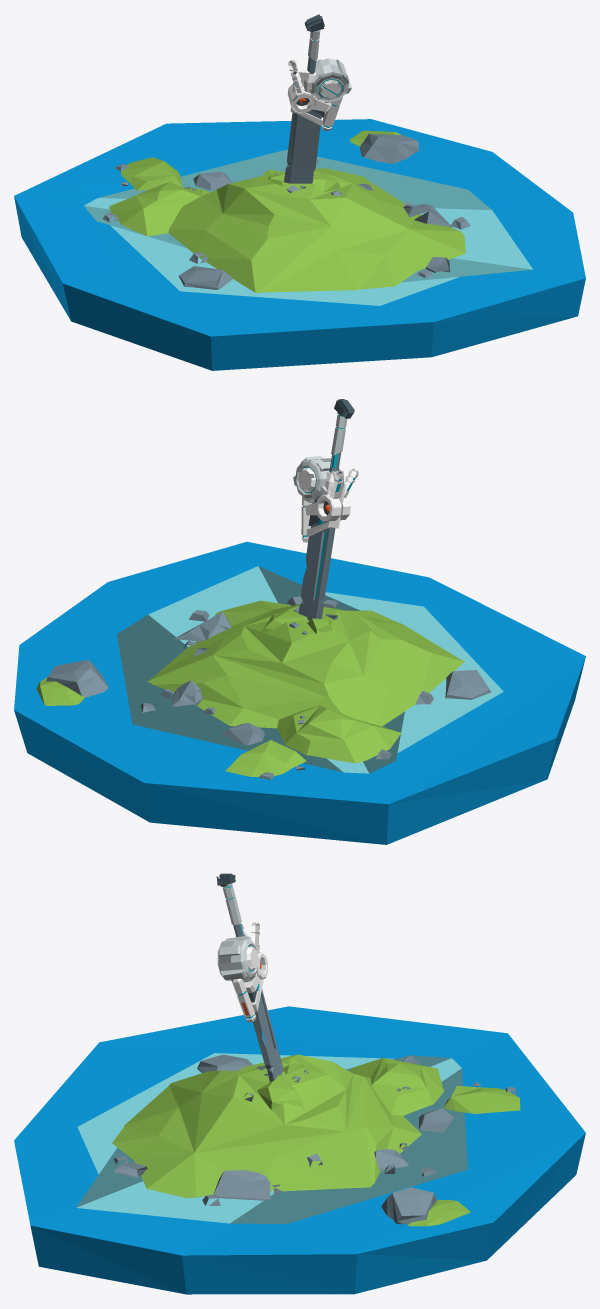
The model's file is cyber-master-sword-by-nick-slough-dP6-Riq2C_C.glb.
3 views of the same model, one above another, from view 1: azimuth 30°, elevation 25°; view 2: azimuth 150°, elevation 25°; view 3: azimuth 270°, elevation 25° (orthographic). The views are drawn at different scales.
Parts seen in each view (by area): view 1: group1103133641, group1821133275, group1355283942, group1968882272, group532574290, group263190879, group429069021, group707763807, group1959712594; view 2: group1103133641, group1821133275, group1355283942, group1968882272, group263190879, group532574290, group429069021, group678656056, group707763807, group1959712594, group294009847; view 3: group1103133641, group1821133275, group1355283942, group1968882272, group263190879, group707763807, group532574290, group1165729818, group678656056, group429069021, group1959712594.
Part boxes in pixels (x1=…): group1103133641: x1=14, y1=119, x2=585, y2=370; group1821133275: x1=168, y1=168, x2=465, y2=292; group1355283942: x1=284, y1=14, x2=351, y2=183; group1968882272: x1=109, y1=181, x2=209, y2=236; group532574290: x1=359, y1=133, x2=418, y2=163; group263190879: x1=121, y1=157, x2=181, y2=190; group429069021: x1=179, y1=266, x2=232, y2=289; group707763807: x1=403, y1=204, x2=451, y2=227; group1959712594: x1=193, y1=171, x2=231, y2=190; group1103133641: x1=14, y1=541, x2=585, y2=844; group1821133275: x1=147, y1=600, x2=464, y2=728; group1355283942: x1=293, y1=399, x2=358, y2=620; group1968882272: x1=277, y1=705, x2=400, y2=763; group263190879: x1=225, y1=740, x2=306, y2=776; group532574290: x1=46, y1=660, x2=108, y2=697; group429069021: x1=445, y1=670, x2=491, y2=699; group678656056: x1=36, y1=677, x2=84, y2=705; group707763807: x1=174, y1=611, x2=231, y2=641; group1959712594: x1=221, y1=723, x2=264, y2=745; group294009847: x1=172, y1=680, x2=202, y2=706; group1103133641: x1=14, y1=1006, x2=585, y2=1294; group1821133275: x1=112, y1=1054, x2=421, y2=1198; group1355283942: x1=216, y1=873, x2=283, y2=1081; group1968882272: x1=350, y1=1058, x2=444, y2=1115; group263190879: x1=443, y1=1085, x2=520, y2=1113; group707763807: x1=213, y1=1170, x2=270, y2=1200; group532574290: x1=381, y1=1187, x2=436, y2=1224; group1165729818: x1=257, y1=1075, x2=304, y2=1111; group678656056: x1=407, y1=1200, x2=470, y2=1226; group429069021: x1=197, y1=1054, x2=252, y2=1072; group1959712594: x1=419, y1=1108, x2=453, y2=1132.
Bounding box in the file's own units: 8.37 × 4.85 × 8.32.
